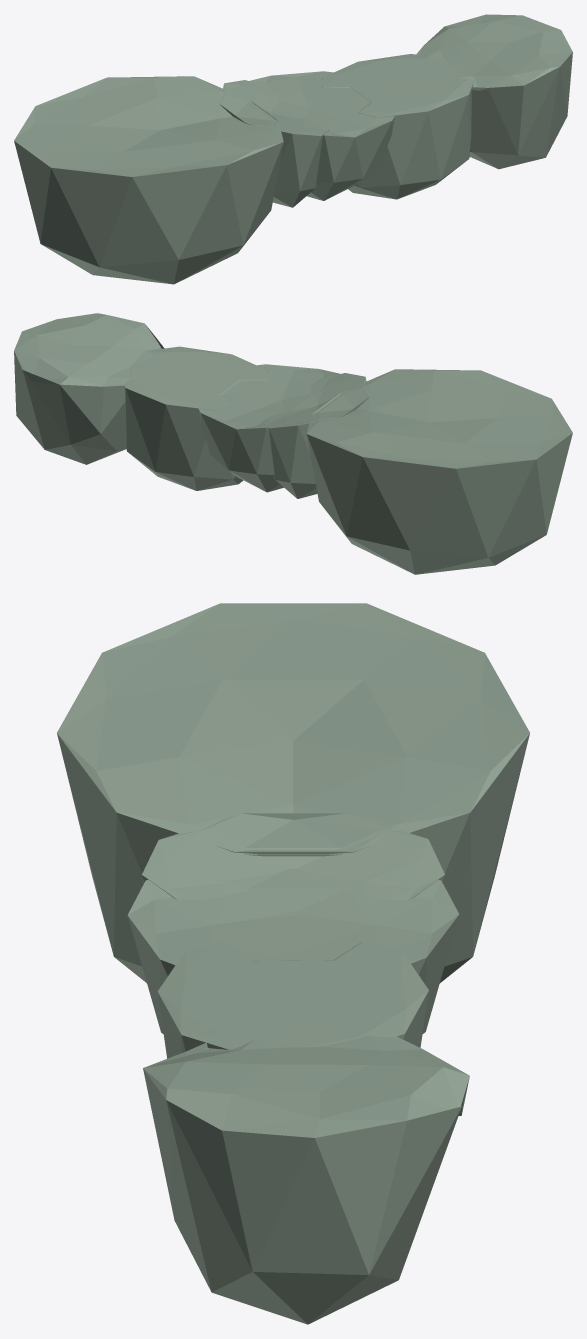
File: cloud-platform02.fbx
3 renders of one model, top to bottom at view 1: azimuth 30°, elevation 25°; view 2: azimuth 150°, elevation 25°; view 3: azimuth 270°, elevation 25°, orthographic. The views are drawn at different scales.
Parts seen in each view (by area): view 1: cloud-platform02; view 2: cloud-platform02; view 3: cloud-platform02.
Part boxes in pixels (bbox=[...]): cloud-platform02: bbox=[14, 14, 572, 284]; cloud-platform02: bbox=[14, 313, 572, 574]; cloud-platform02: bbox=[57, 603, 529, 1324].
Bounding box in the file's own units: 916 × 249 × 356.
